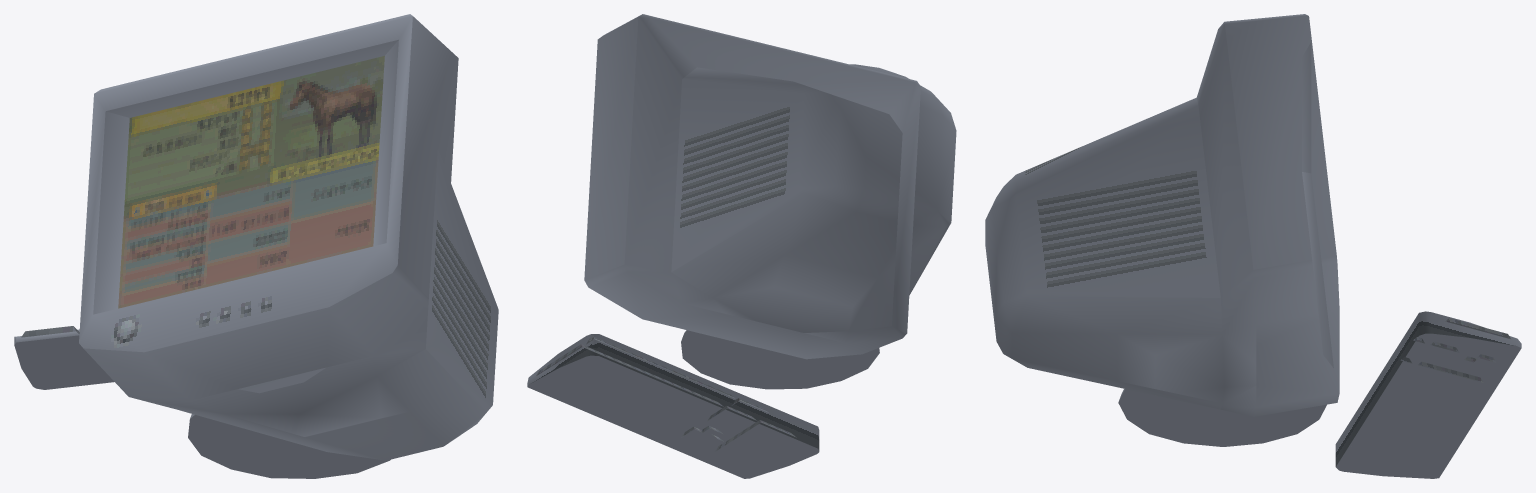
Rendered from ps2_save-icons_winningpost5maximum2002-edit.glb.
3 views of the same model, side by side, from view 1: azimuth 30°, elevation 25°; view 2: azimuth 150°, elevation 25°; view 3: azimuth 270°, elevation 25° (orthographic). The views are drawn at different scales.
Visible parts, largest first — view 1: ic_edit.icn; view 2: ic_edit.icn; view 3: ic_edit.icn.
Part boxes in pixels (x1=…): ic_edit.icn: x1=14, y1=14, x2=498, y2=478; ic_edit.icn: x1=527, y1=14, x2=956, y2=478; ic_edit.icn: x1=985, y1=14, x2=1521, y2=478.
Bounding box in the file's own units: 2.75 × 2.77 × 4.21.
1 material, 1 textured.
